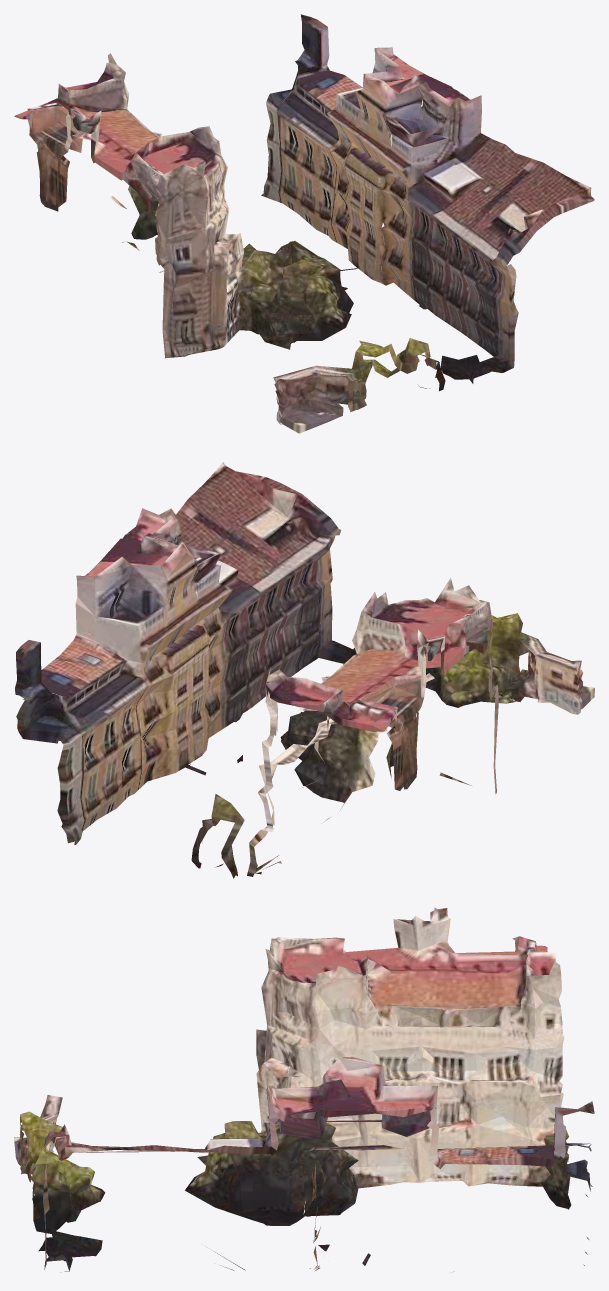
3 renders of one model, top to bottom at view 1: azimuth 30°, elevation 25°; view 2: azimuth 150°, elevation 25°; view 3: azimuth 270°, elevation 25°, orthographic. The views are drawn at different scales.
Visible parts, largest first — view 1: Mesh_0; view 2: Mesh_0; view 3: Mesh_0.
Boxes of the visible parts, x1=… form: Mesh_0: x1=14, y1=14, x2=594, y2=433; Mesh_0: x1=15, y1=462, x2=594, y2=878; Mesh_0: x1=14, y1=907, x2=594, y2=1272.
Size of the model in its own units: 33.32 by 17.75 by 41.3.
Materials: 2 (2 with a texture image).
